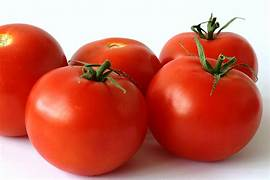tomato: (33, 56, 140, 173), (148, 60, 264, 166)
